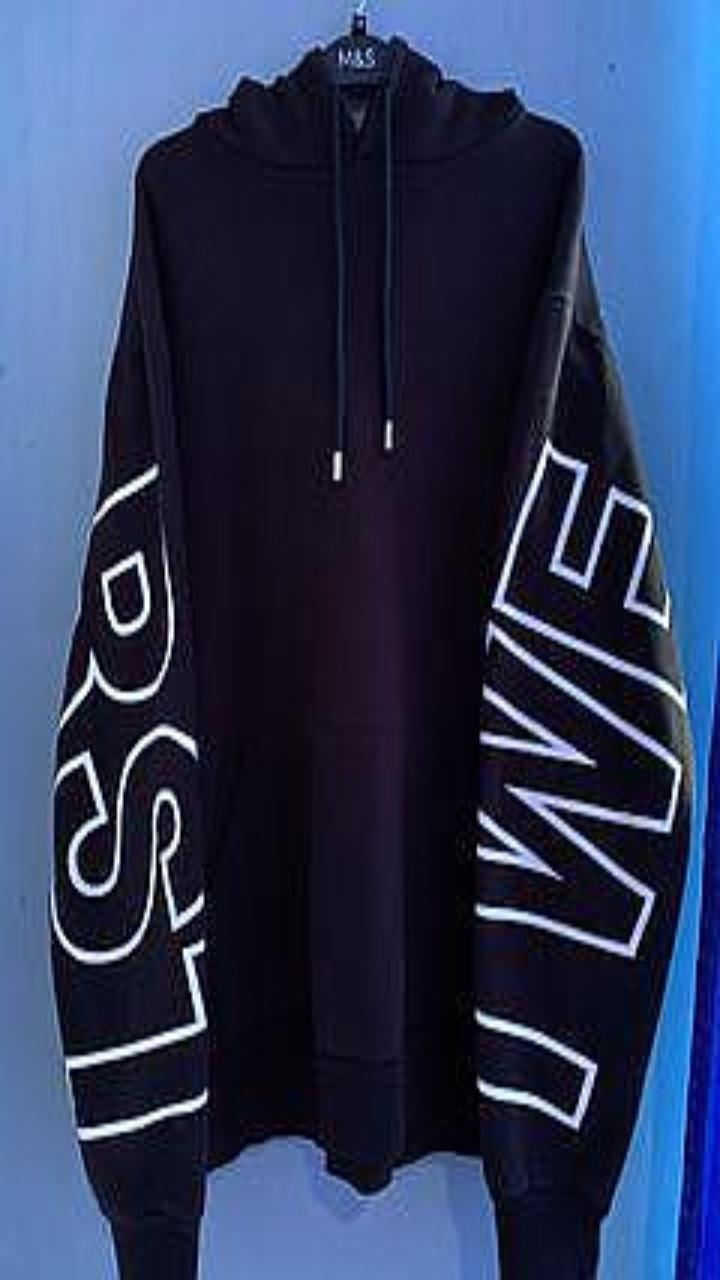Hoodie: (49, 36, 692, 1279)
